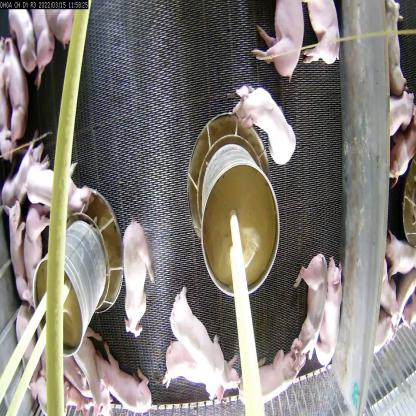Pig: (168, 282, 228, 402), (231, 75, 300, 166), (163, 338, 242, 402), (237, 337, 306, 406), (96, 344, 160, 415), (254, 0, 307, 84), (0, 128, 54, 208), (294, 250, 330, 366), (309, 255, 344, 373), (27, 154, 94, 214), (120, 216, 152, 341), (78, 324, 114, 416), (4, 197, 30, 315), (3, 34, 29, 150), (18, 199, 48, 298), (304, 1, 343, 74), (17, 306, 40, 409), (11, 6, 36, 79), (30, 10, 54, 80), (386, 221, 415, 277), (63, 362, 96, 405), (47, 11, 81, 51)
